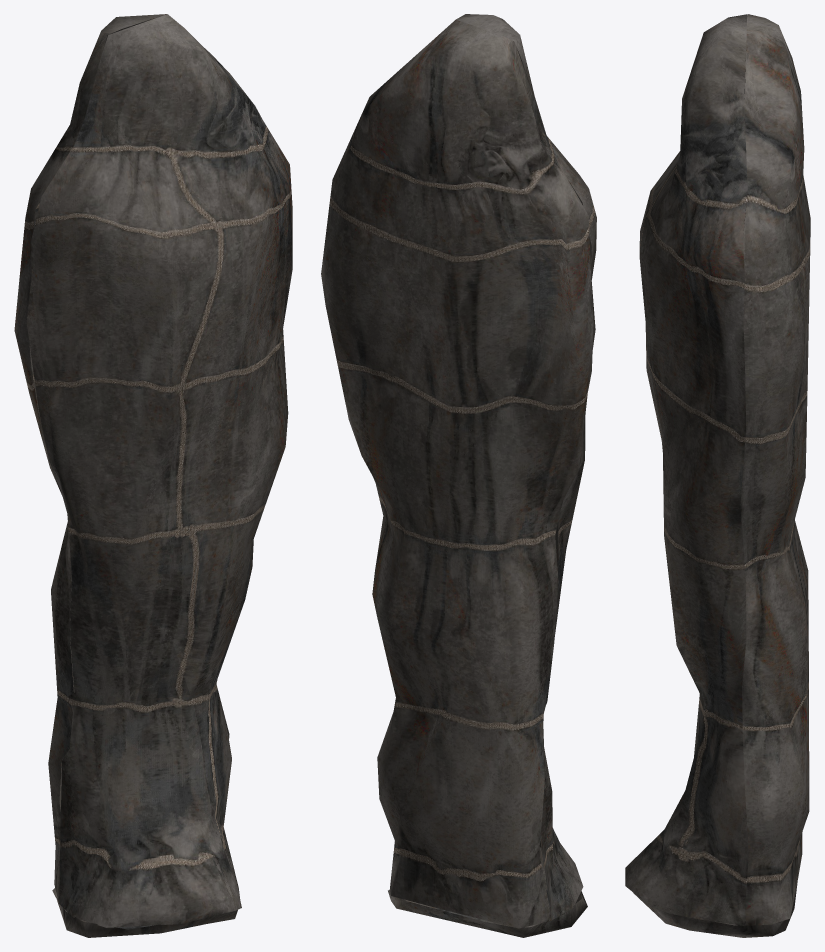
Rendered from corpse.obj.
3 views of the same model, side by side, from view 1: azimuth 30°, elevation 25°; view 2: azimuth 150°, elevation 25°; view 3: azimuth 270°, elevation 25° (orthographic).
Visible parts, largest first — view 1: LP_meshId0_name; view 2: LP_meshId0_name; view 3: LP_meshId0_name.
Boxes of the visible parts, x1,y1,x2,y2 form: LP_meshId0_name: (14,14,292,937); LP_meshId0_name: (321,14,596,937); LP_meshId0_name: (625,14,810,937).
Bounding box in the file's own units: 0.6213 × 2 × 0.3795.
